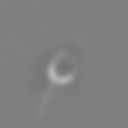normal: (27, 83, 56, 127)
